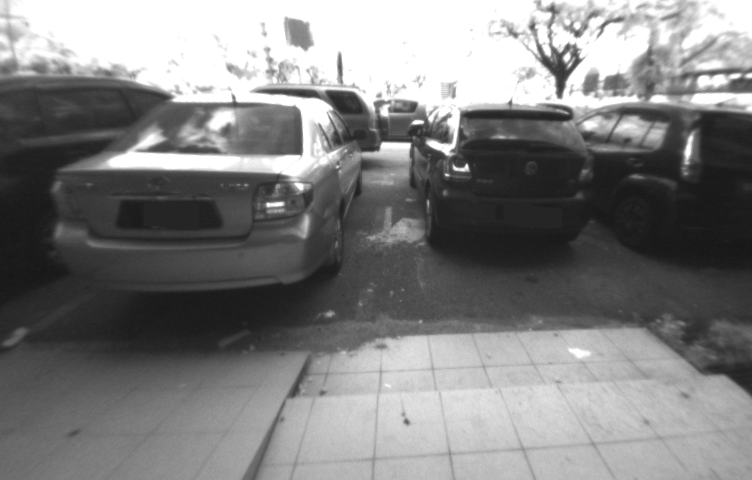down_steps: (277, 323, 742, 480)
mixed_gradient: (223, 339, 364, 480)
